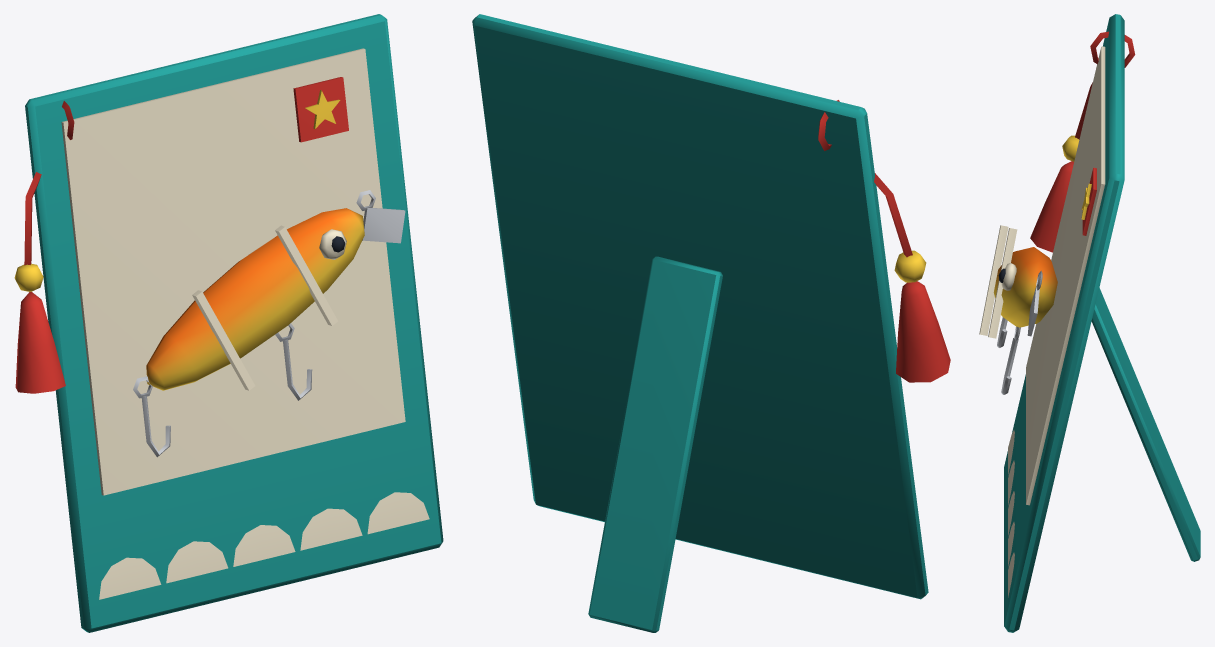
File: gift-lure.glb
The picture shows the model from 3 angles, left to right: view 1: azimuth 30°, elevation 25°; view 2: azimuth 150°, elevation 25°; view 3: azimuth 270°, elevation 25°; orthographic projection. The views are drawn at different scales.
Parts seen in each view (by area): view 1: Gift lure Paper, Gift lure Card teal, Gift lure Lure paint, Gift lure Red, Gift lure Silver; view 2: Gift lure Card teal, Gift lure Red, Gift lure Lure paint; view 3: Gift lure Card teal, Gift lure Paper, Gift lure Lure paint, Gift lure Red, Gift lure Silver.
Boxes of the visible parts, box(x1,y1,x2,y2) form: Gift lure Paper: box(61, 48, 429, 599); Gift lure Card teal: box(25, 14, 443, 632); Gift lure Lure paint: box(14, 90, 364, 390); Gift lure Red: box(15, 77, 348, 393); Gift lure Silver: box(133, 190, 405, 457); Gift lure Card teal: box(472, 14, 928, 632); Gift lure Red: box(818, 100, 950, 382); Gift lure Lure paint: box(894, 250, 926, 282); Gift lure Card teal: box(1004, 14, 1200, 632); Gift lure Paper: box(979, 46, 1105, 597); Gift lure Lure paint: box(993, 135, 1091, 327); Gift lure Red: box(1030, 31, 1135, 252); Gift lure Silver: box(997, 270, 1042, 394).
Size of the model in its own units: 0.2345 by 0.2745 by 0.1199.
